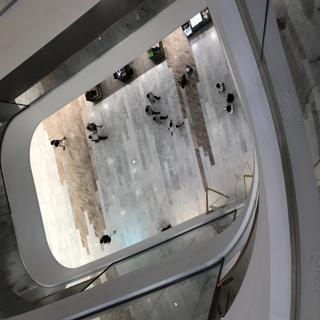person: (40, 133, 72, 155), (144, 112, 170, 132), (85, 132, 114, 149), (182, 64, 200, 90), (210, 78, 227, 96), (144, 91, 163, 106)
